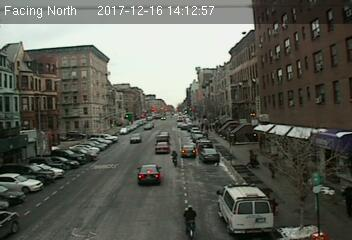bicycle: (182, 203, 197, 239), (170, 150, 179, 169)
car: (136, 164, 162, 183), (200, 147, 221, 163), (181, 144, 197, 157), (155, 142, 170, 154), (129, 133, 142, 143)
police: (217, 182, 274, 237)
